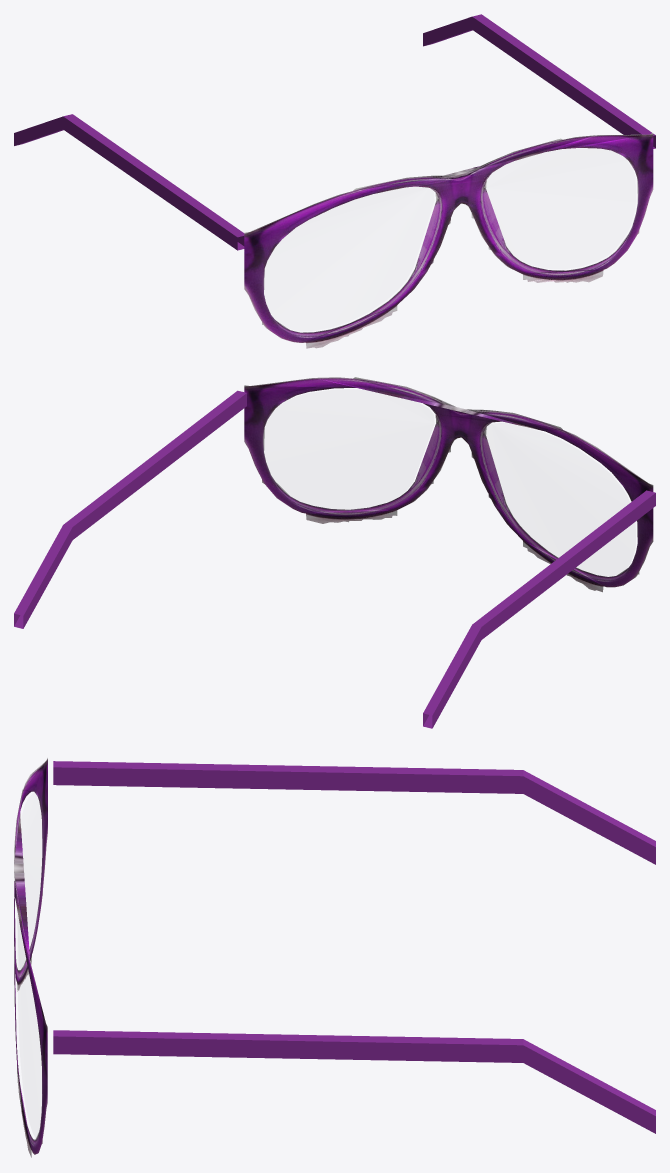
Rendered from gothamstyle-233_purple-black.glb.
The picture shows the model from 3 angles, top to bottom: view 1: azimuth 30°, elevation 25°; view 2: azimuth 150°, elevation 25°; view 3: azimuth 270°, elevation 25°; orthographic projection. The views are drawn at different scales.
Parts seen in each view (by area): view 1: frame_front, temple_viewer_left, temple_viewer_right; view 2: frame_front, temple_viewer_right, temple_viewer_left; view 3: temple_viewer_left, temple_viewer_right, frame_front.
Boxes of the visible parts, <box> form: frame_front: <box>244,133,653,348</box>; temple_viewer_left: <box>14,114,244,250</box>; temple_viewer_right: <box>423,14,655,148</box>; frame_front: <box>244,377,653,592</box>; temple_viewer_right: <box>14,390,246,628</box>; temple_viewer_left: <box>423,490,655,728</box>; temple_viewer_left: <box>53,761,655,864</box>; temple_viewer_right: <box>53,1030,655,1133</box>; frame_front: <box>14,758,47,1157</box>.
Size of the model in its own units: 0.1329 by 0.0466 by 0.131.
Materials: 3 (2 with a texture image).
